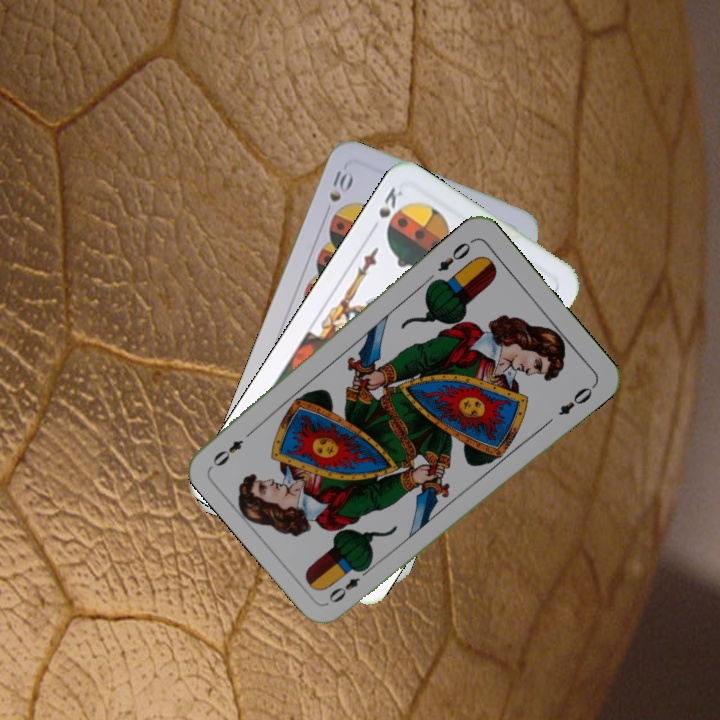EO: (324, 562, 374, 606), (433, 235, 476, 275)
S10: (325, 164, 356, 205)
SK: (374, 182, 406, 221)
